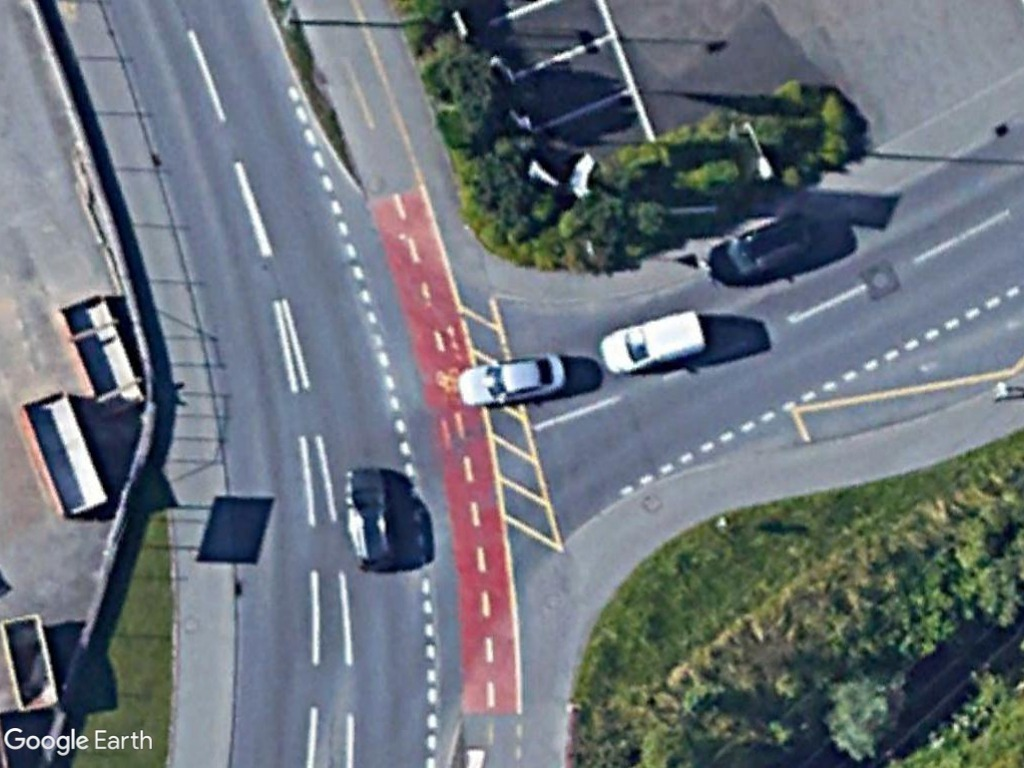car: (452, 350, 567, 412), (340, 464, 402, 572)
van: (599, 302, 707, 377)
